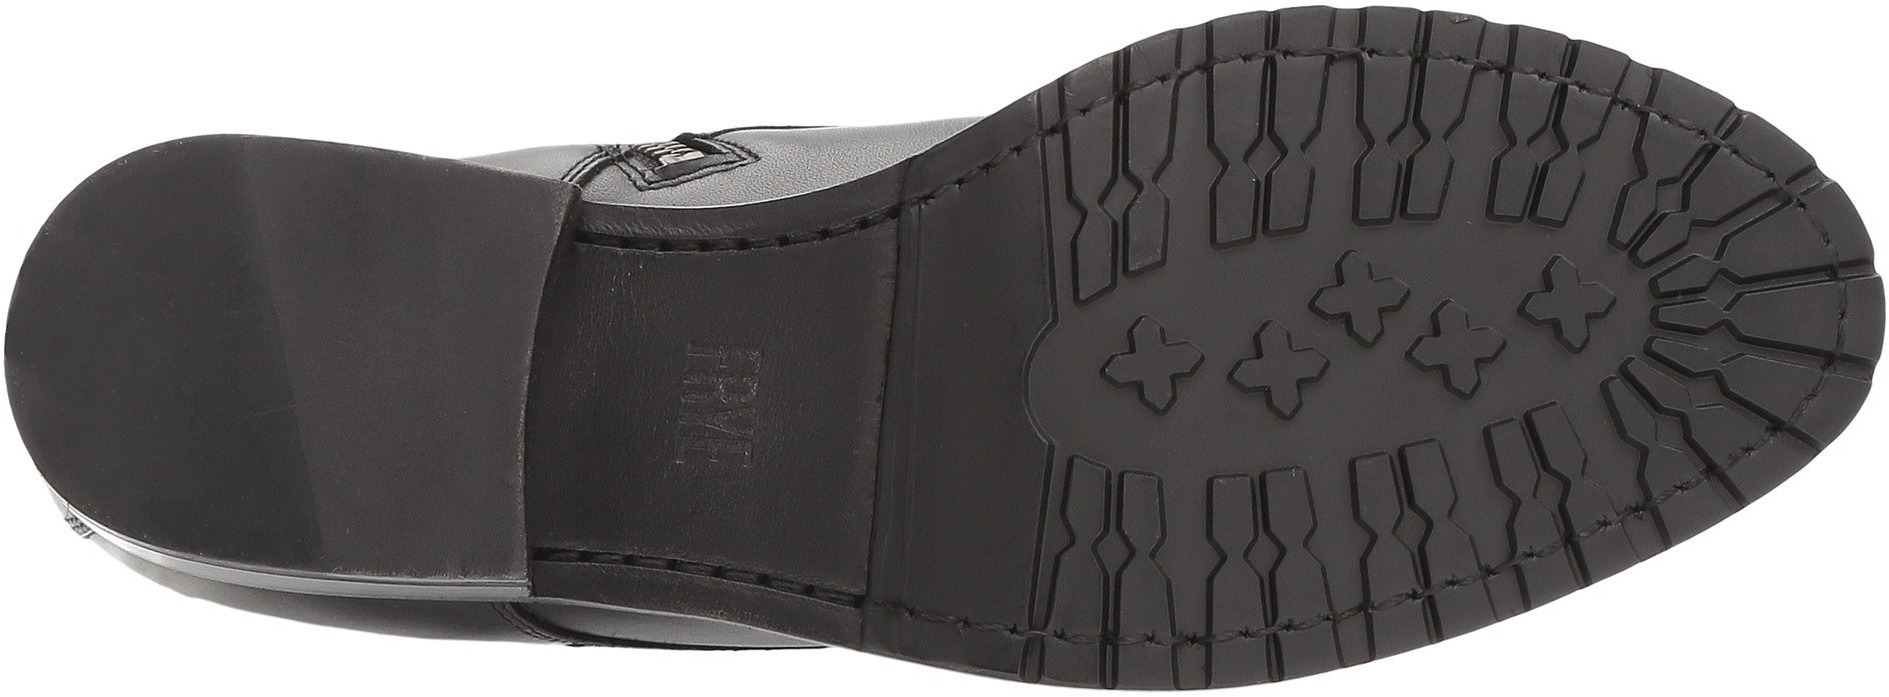bowtie: (1630, 262, 1830, 439), (1123, 461, 1313, 640), (1352, 430, 1550, 596), (1089, 102, 1279, 271), (1294, 67, 1472, 236), (1482, 84, 1653, 248)
exclude: (523, 160, 913, 674), (529, 167, 905, 648)
other: (281, 194, 518, 450), (52, 229, 254, 417)
star: (1302, 240, 1490, 418), (1104, 290, 1281, 457), (1502, 247, 1614, 366)
